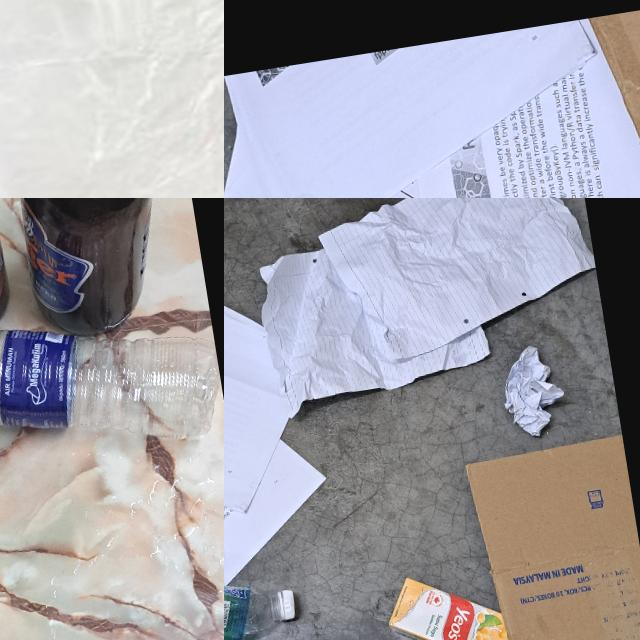caixinha: (383, 564, 515, 640)
garrafa de vidro: (11, 198, 177, 344)
garrafa plástica: (0, 299, 224, 479), (224, 531, 301, 639)
papel: (224, 8, 640, 198), (240, 198, 609, 405), (224, 219, 343, 635), (498, 338, 570, 441)
papelão: (462, 433, 640, 640)
sacola plástica: (0, 0, 224, 198)
tampa plástica: (276, 588, 298, 622)
